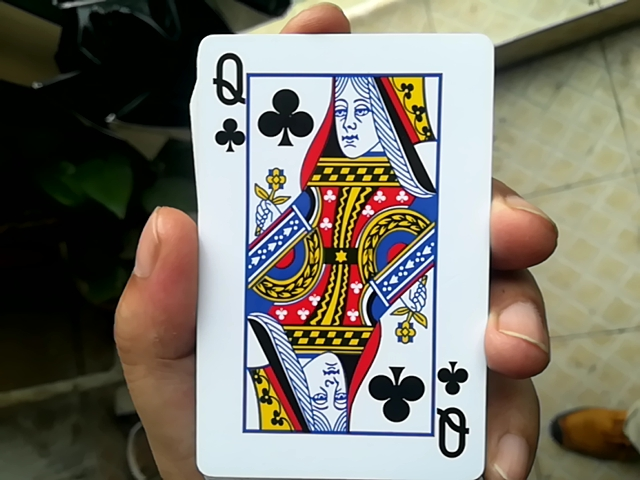mh q: (172, 33, 491, 480)
